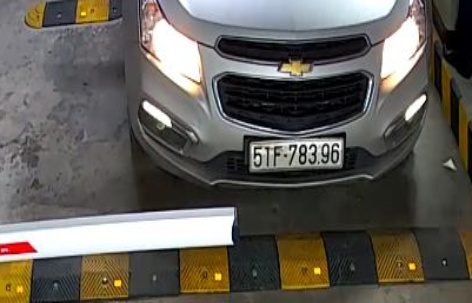plate: (246, 138, 346, 183)
